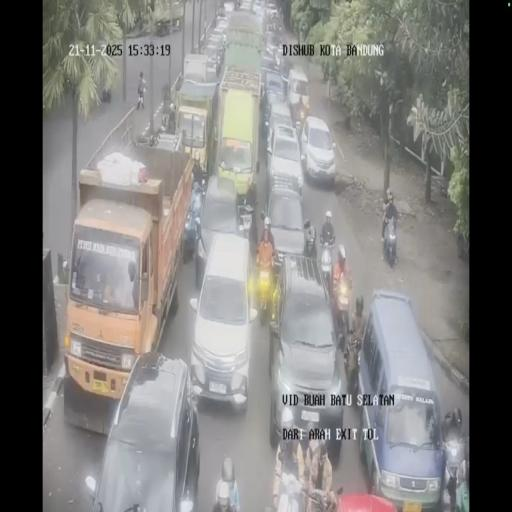3: (213, 68, 263, 202), (154, 0, 183, 33)
car: (356, 292, 445, 503), (88, 353, 200, 509), (268, 257, 343, 450), (196, 173, 245, 283), (266, 115, 304, 200), (265, 185, 305, 265), (300, 116, 336, 186), (260, 70, 286, 131), (182, 52, 215, 96), (286, 66, 309, 126), (204, 29, 227, 71), (264, 38, 281, 67), (277, 54, 292, 83), (214, 14, 230, 38), (252, 0, 266, 17), (265, 2, 277, 20), (223, 0, 235, 14), (239, 0, 253, 12)
truck: (254, 251, 278, 323), (272, 462, 304, 512), (333, 281, 352, 344), (382, 212, 398, 267), (320, 242, 334, 291), (237, 204, 253, 245), (160, 90, 175, 133), (303, 220, 317, 258)
